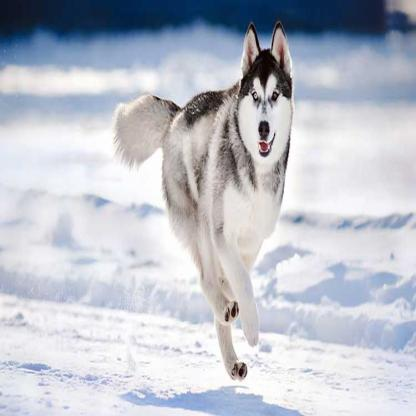husky: (114, 30, 297, 377)
